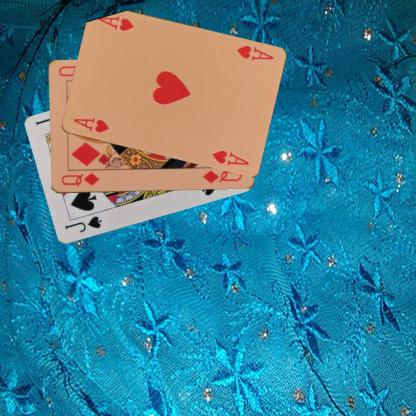Ah: (70, 115, 111, 134), (234, 43, 274, 62)
Js: (62, 214, 103, 234)
Qd: (58, 170, 100, 188)
